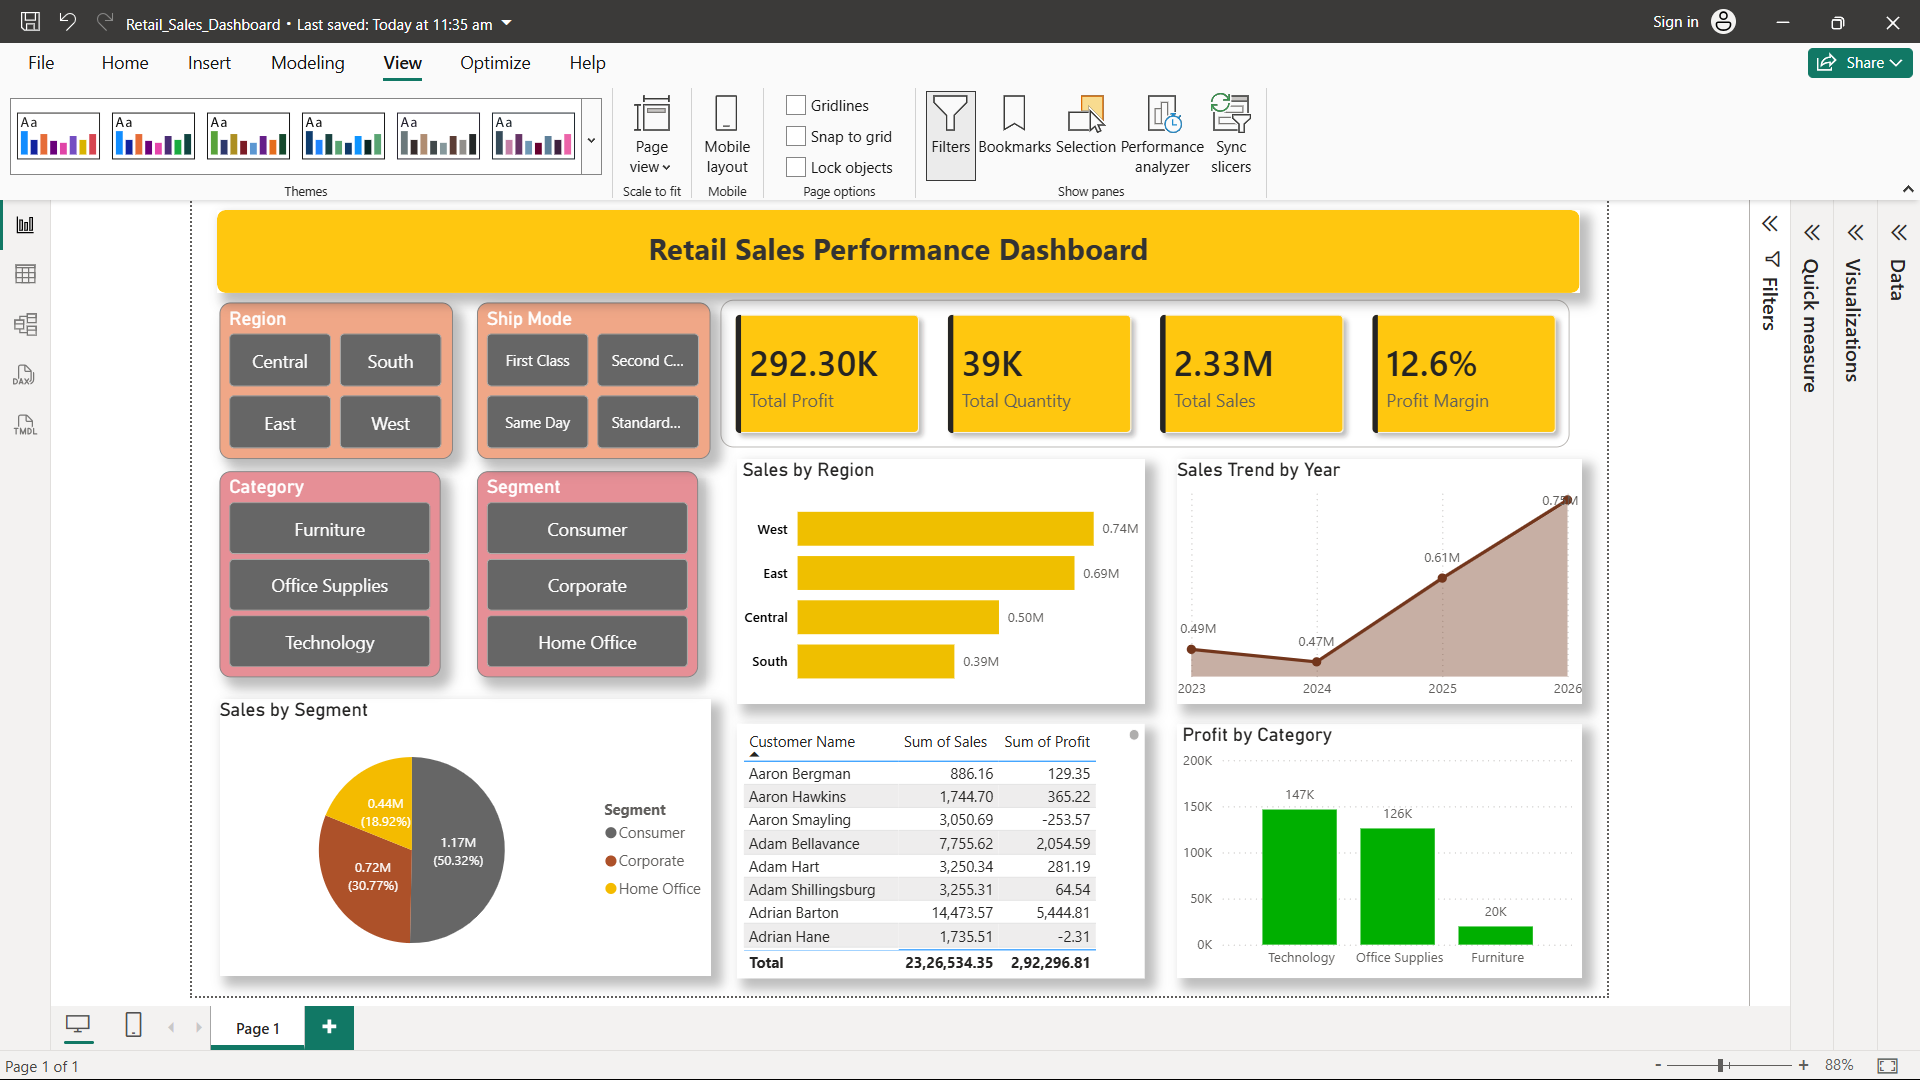

The dashboard page shown, as its layout file describes it:
{"tool":"powerbi","page":{"name":"Page 1","canvas":[1280,720],"ordinal":0},"visuals":[{"type":"cardVisual","fields":{"Data":["samplesuperstore.Total Profit","samplesuperstore.Total Quantity","samplesuperstore.Total Sales","samplesuperstore.Profit Margin"]},"box":[467.9,28.8,783.5,164.7],"z":0},{"type":"barChart","fields":{"Y":["Sum(samplesuperstore.Sales)"],"Category":["samplesuperstore.Region"]},"box":[503.5,203.5,347.7,229.1],"z":1000},{"type":"clusteredColumnChart","fields":{"Category":["samplesuperstore.Category"],"Y":["Sum(samplesuperstore.Profit)"]},"box":[889.2,446,366.4,244.3],"z":2000},{"type":"pieChart","fields":{"Category":["samplesuperstore.Segment"],"Y":["Sum(samplesuperstore.Sales)"]},"box":[22.1,400,445.4,296.5],"z":3000},{"type":"tableEx","fields":{"Values":["samplesuperstore.Customer Name","Sum(samplesuperstore.Sales)","Sum(samplesuperstore.Profit)"]},"box":[491.3,446,369.1,252.5],"z":4000},{"type":"lineChart","fields":{"Category":["samplesuperstore.Order Date.Variation.Date Hierarchy.Year","samplesuperstore.Order Date.Variation.Date Hierarchy.Quarter","samplesuperstore.Order Date.Variation.Date Hierarchy.Month","samplesuperstore.Order Date.Variation.Date Hierarchy.Day"],"Y":["Sum(samplesuperstore.Sales)"]},"box":[889.5,203.5,366.3,222.1],"z":5000},{"type":"advancedSlicerVisual","fields":{"Values":["samplesuperstore.Region"]},"box":[22.1,30.2,211.6,140.7],"z":6000},{"type":"advancedSlicerVisual","fields":{"Values":["samplesuperstore.Segment"]},"box":[255.8,194.2,200,186],"z":7000},{"type":"advancedSlicerVisual","fields":{"Values":["samplesuperstore.Category"]},"box":[33.7,194.2,200,186],"z":8000},{"type":"advancedSlicerVisual","fields":{"Values":["samplesuperstore.Ship Mode"]},"box":[255.8,29.1,211.6,140.7],"z":9000}]}

Visuals, with their boxes on the page's 1280x720 design canvas (x1, y1, x2, y2). These are canvas units, not pixel positions in the 1920x1080 screenshot, which may show the page scaled, cropped or inside an application window:
cardVisual - samplesuperstore.Total Profit x samplesuperstore.Total Quantity: pyautogui.locateOnScreen(468, 29, 1251, 194)
barChart - Sum(samplesuperstore.Sales) x samplesuperstore.Region: pyautogui.locateOnScreen(504, 204, 851, 433)
clusteredColumnChart - samplesuperstore.Category x Sum(samplesuperstore.Profit): pyautogui.locateOnScreen(889, 446, 1256, 690)
pieChart - samplesuperstore.Segment x Sum(samplesuperstore.Sales): pyautogui.locateOnScreen(22, 400, 468, 696)
tableEx - samplesuperstore.Customer Name x Sum(samplesuperstore.Sales): pyautogui.locateOnScreen(491, 446, 860, 698)
lineChart - samplesuperstore.Order Date.Variation.Date Hierarchy.Year x samplesuperstore.Order Date.Variation.Date Hierarchy.Quarter: pyautogui.locateOnScreen(890, 204, 1256, 426)
advancedSlicerVisual - samplesuperstore.Region: pyautogui.locateOnScreen(22, 30, 234, 171)
advancedSlicerVisual - samplesuperstore.Segment: pyautogui.locateOnScreen(256, 194, 456, 380)
advancedSlicerVisual - samplesuperstore.Category: pyautogui.locateOnScreen(34, 194, 234, 380)
advancedSlicerVisual - samplesuperstore.Ship Mode: pyautogui.locateOnScreen(256, 29, 467, 170)
